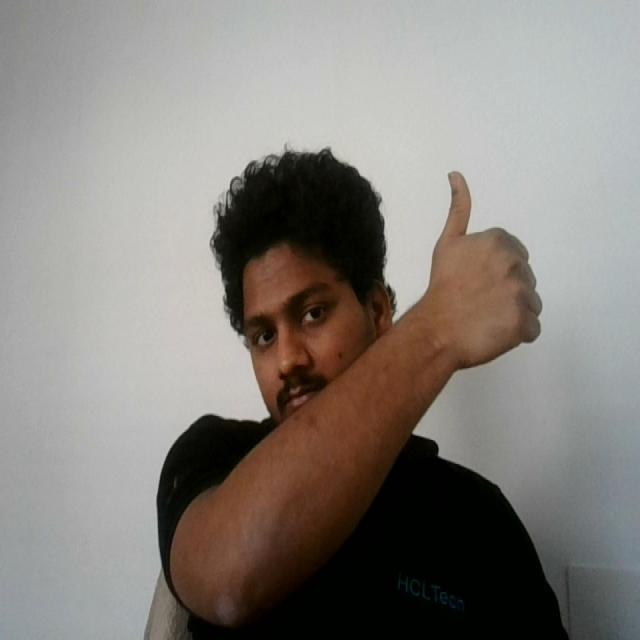Yes: (411, 163, 552, 385)
